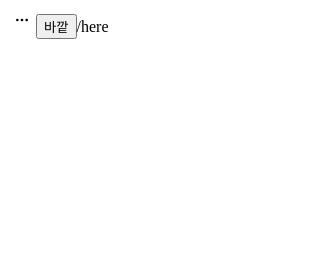
it: 키보드 › 링크 항목의 Enter 는 그 주소로 옮긴다
Click the button named "더 보기" at (22, 20), box [8,8,36,32]
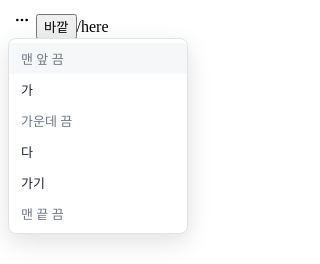
Press End in the menu item "맨 앞 끔", box [9,43,187,74]
Press ArrowUp in the menu item "맨 끝 끔", box [9,198,187,229]
Press Enter in the menu item "가기", box [9,167,187,198]
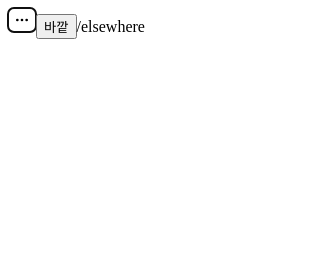
Now the text with test id "where" reads "/elsewhere", box [76,18,145,35]
Now the menu is gone
